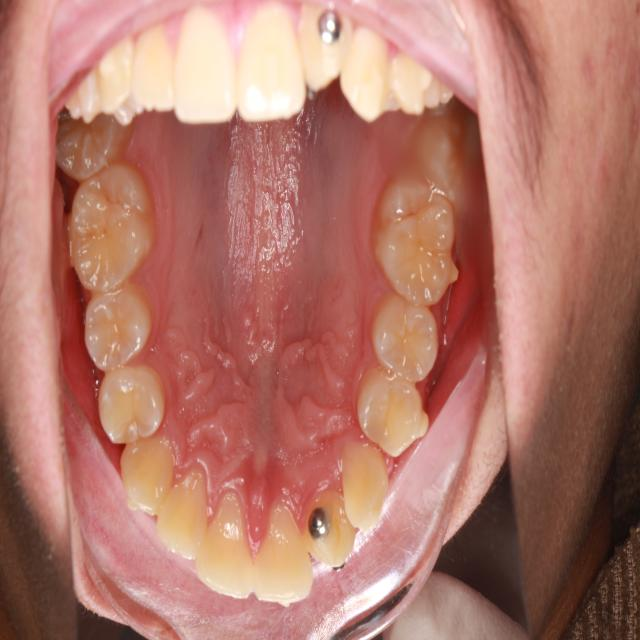tooth: (62, 159, 168, 308), (370, 176, 470, 319), (349, 359, 440, 458), (249, 488, 319, 613), (197, 482, 262, 612), (54, 102, 143, 194), (111, 422, 186, 529), (92, 359, 176, 453), (366, 291, 446, 387), (149, 450, 214, 566), (76, 287, 158, 376), (413, 120, 481, 217), (298, 481, 363, 579), (337, 439, 393, 530)
